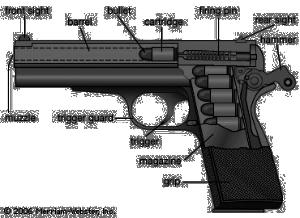handgun: (11, 24, 289, 210)
